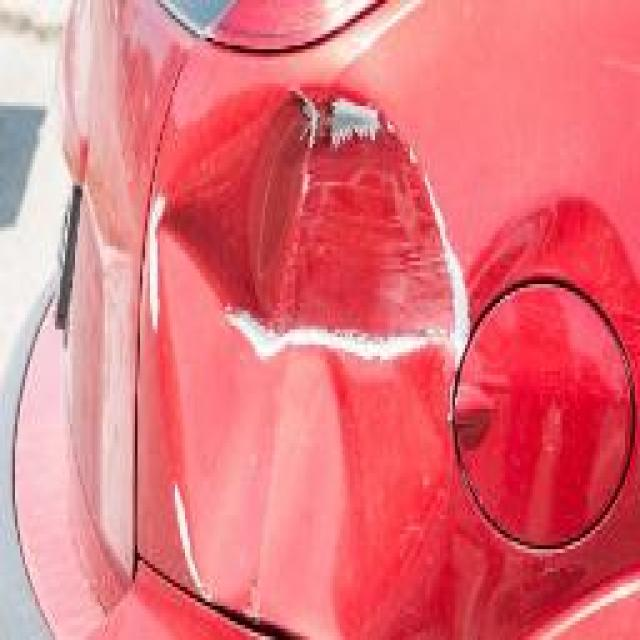Fender: (133, 33, 490, 640)
